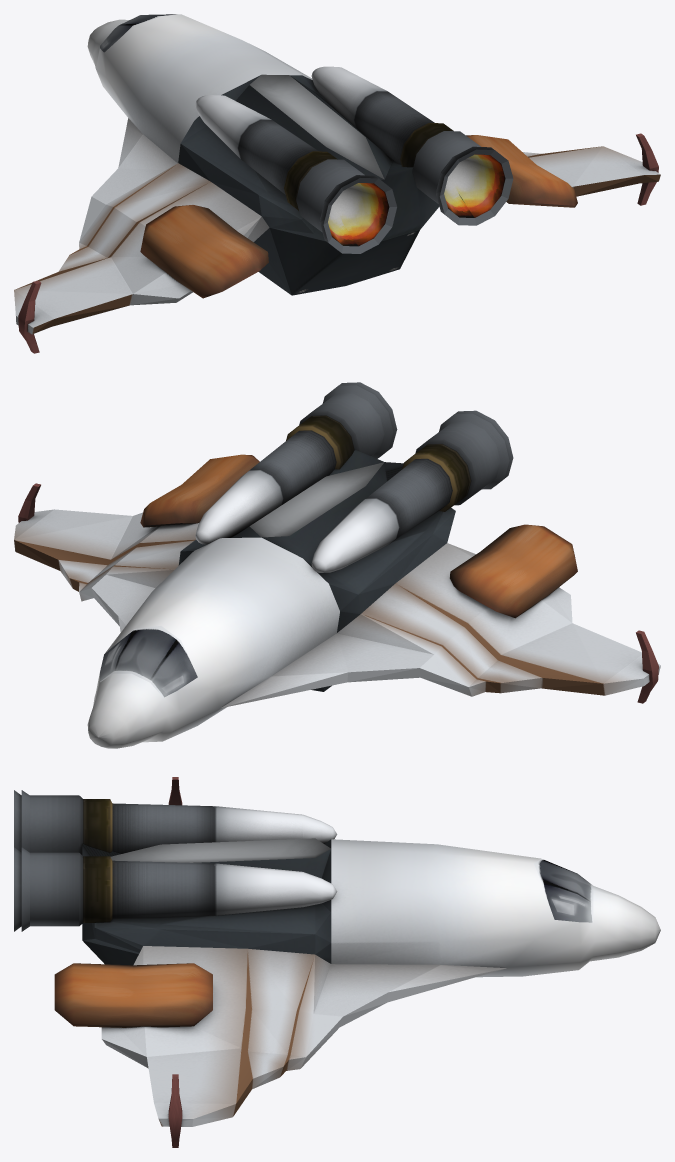
File: spaceship.obj
3 views of the same model, one above another, from view 1: azimuth 30°, elevation 25°; view 2: azimuth 150°, elevation 25°; view 3: azimuth 270°, elevation 25° (orthographic).
Visible parts, largest first — view 1: SpaceShip; view 2: SpaceShip; view 3: SpaceShip.
Part boxes in pixels (x1,y1,x2,y2): SpaceShip: (14, 14, 660, 353); SpaceShip: (14, 382, 660, 748); SpaceShip: (14, 777, 660, 1147).
Size of the model in its own units: 95.39 by 25.51 by 83.44.
Materials: 1 (1 with a texture image).
